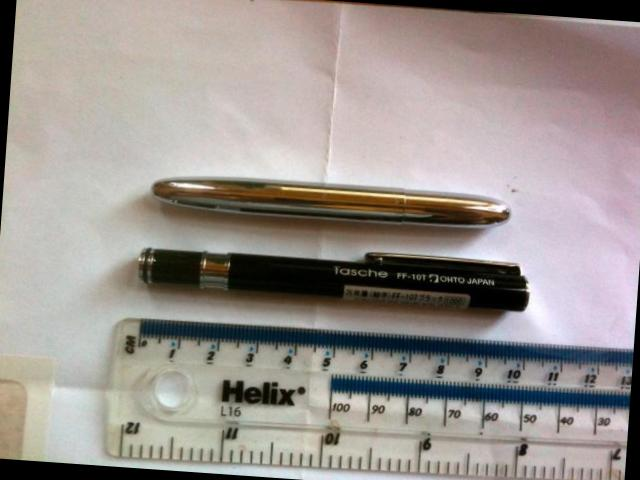PEN: (130, 232, 541, 319), (149, 167, 521, 234)
